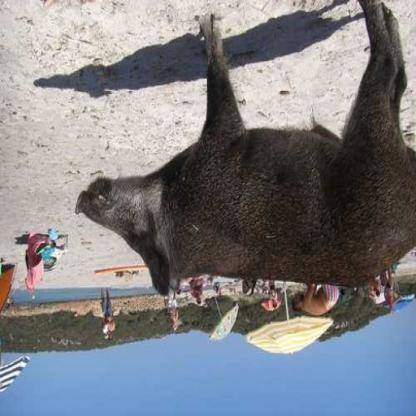boar: (70, 36, 415, 307)
